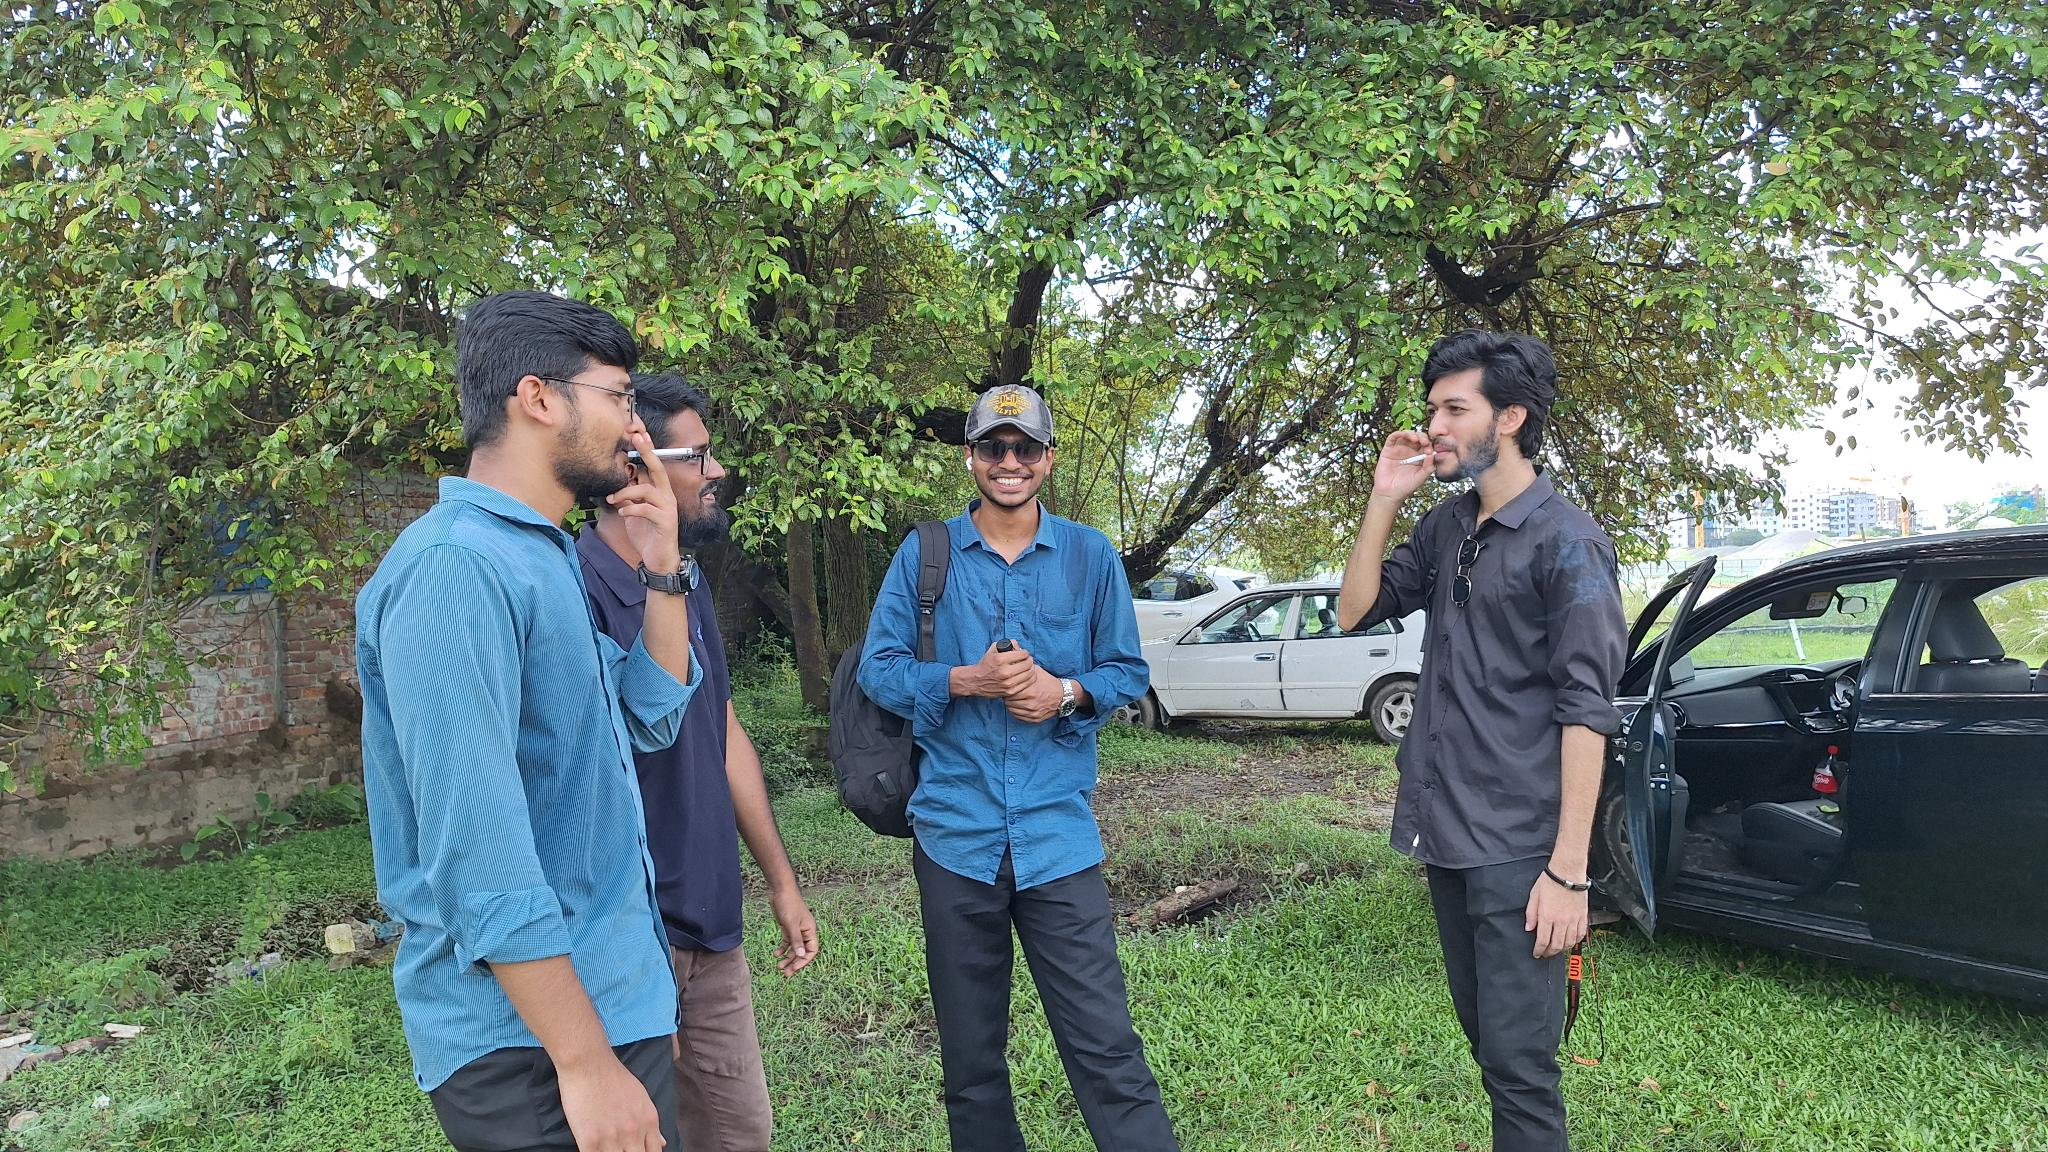cigarette: (625, 444, 693, 461), (1398, 450, 1439, 467)
nonSmoker: (833, 384, 1183, 1152)
smoker: (354, 295, 706, 1152), (1336, 325, 1627, 1152)
